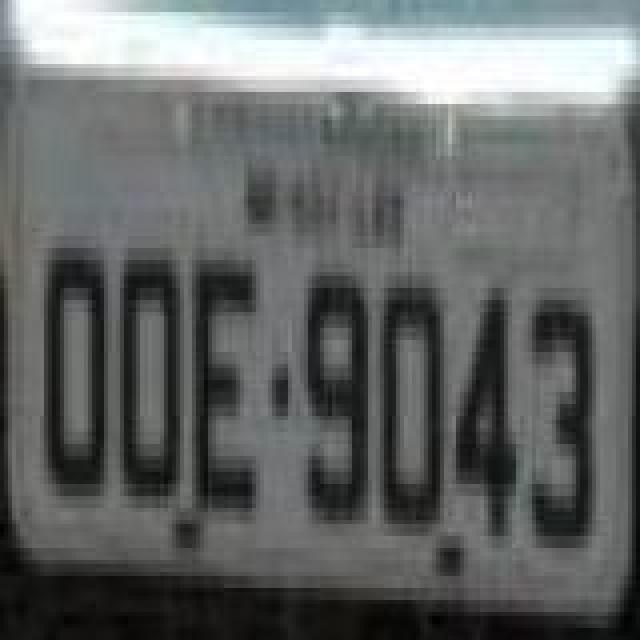3: (524, 292, 596, 556)
4: (456, 292, 520, 540)
9: (300, 268, 372, 532)
E: (188, 246, 260, 522)
O: (36, 240, 108, 504), (376, 272, 448, 536), (116, 244, 180, 508)
